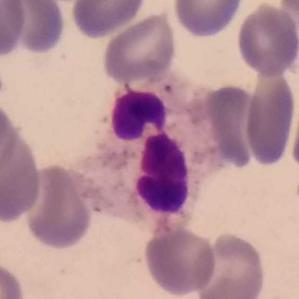Neutrophil: (71, 68, 223, 234)
RBC: (22, 162, 96, 252), (99, 9, 179, 87), (241, 67, 298, 168), (141, 225, 219, 298), (198, 82, 262, 170), (192, 230, 268, 299), (234, 1, 299, 78), (0, 120, 43, 225), (0, 0, 68, 57), (68, 0, 148, 39), (171, 0, 246, 39), (0, 0, 28, 59), (0, 97, 19, 179), (0, 259, 27, 299), (288, 87, 299, 179), (276, 0, 299, 36)
